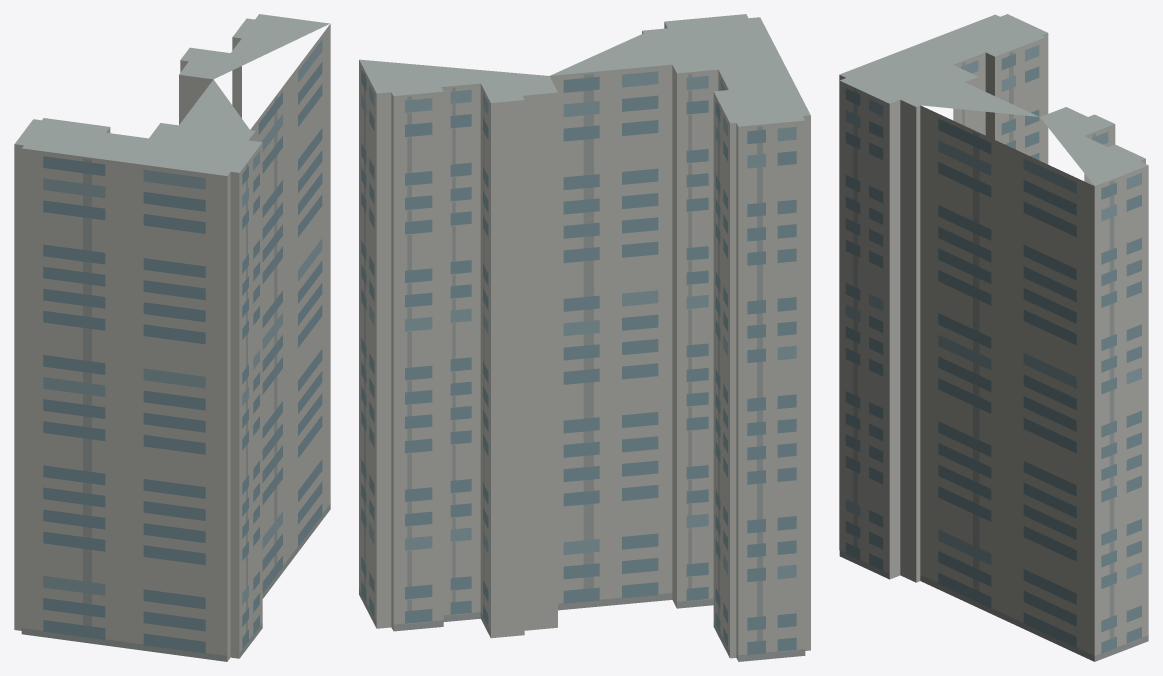
File: residential-09aa8f52-13b9-4846-8209-262d75263c7a.glb
The picture shows the model from 3 angles, left to right: view 1: azimuth 30°, elevation 25°; view 2: azimuth 150°, elevation 25°; view 3: azimuth 270°, elevation 25°; orthographic projection. The views are drawn at different scales.
Parts seen in each view (by area): view 1: residential-09aa8f52-13b9-4846-8209-262d75263c7a.tmp; view 2: residential-09aa8f52-13b9-4846-8209-262d75263c7a.tmp; view 3: residential-09aa8f52-13b9-4846-8209-262d75263c7a.tmp.
Boxes of the visible parts, x1=… form: residential-09aa8f52-13b9-4846-8209-262d75263c7a.tmp: x1=14, y1=14, x2=330, y2=661; residential-09aa8f52-13b9-4846-8209-262d75263c7a.tmp: x1=359, y1=14, x2=810, y2=661; residential-09aa8f52-13b9-4846-8209-262d75263c7a.tmp: x1=839, y1=14, x2=1148, y2=661.
Bounding box in the file's own units: 52.81 × 68 × 40.12.
